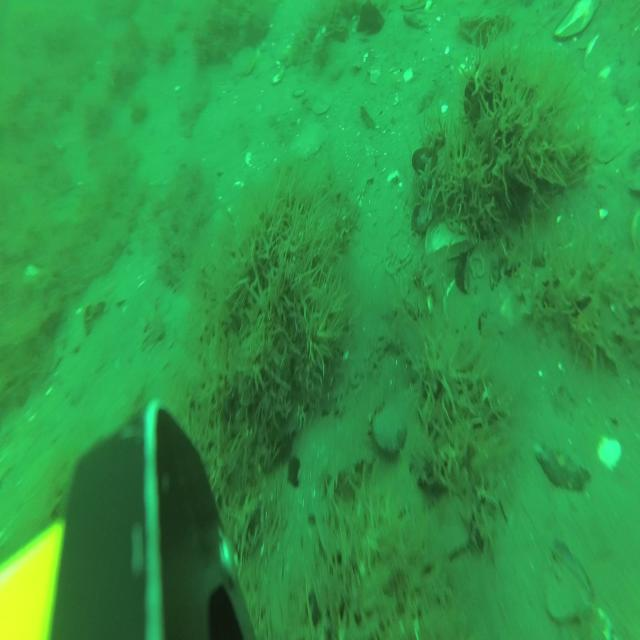scallop: (292, 124, 330, 160), (231, 45, 257, 77), (313, 94, 331, 114)
